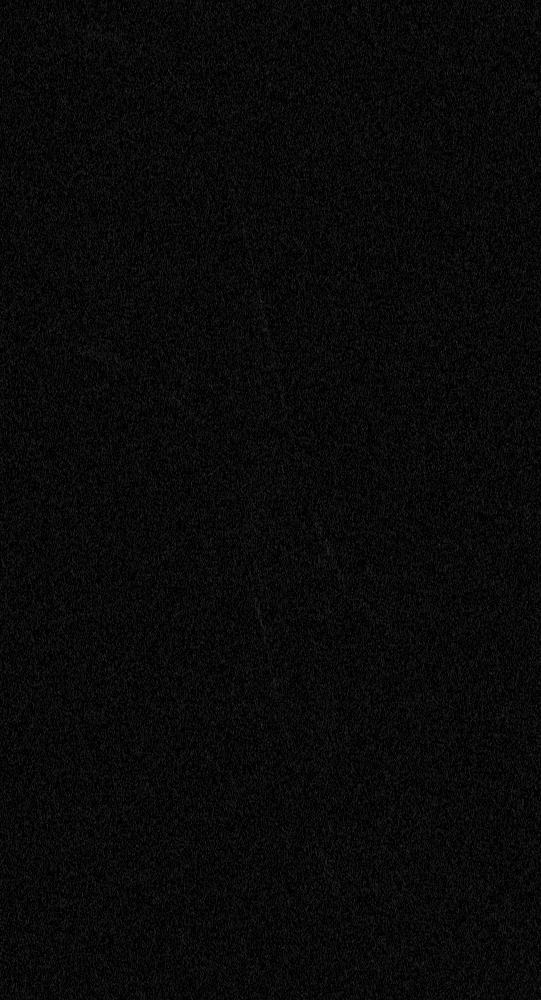signal: (0, 0, 540, 999)
